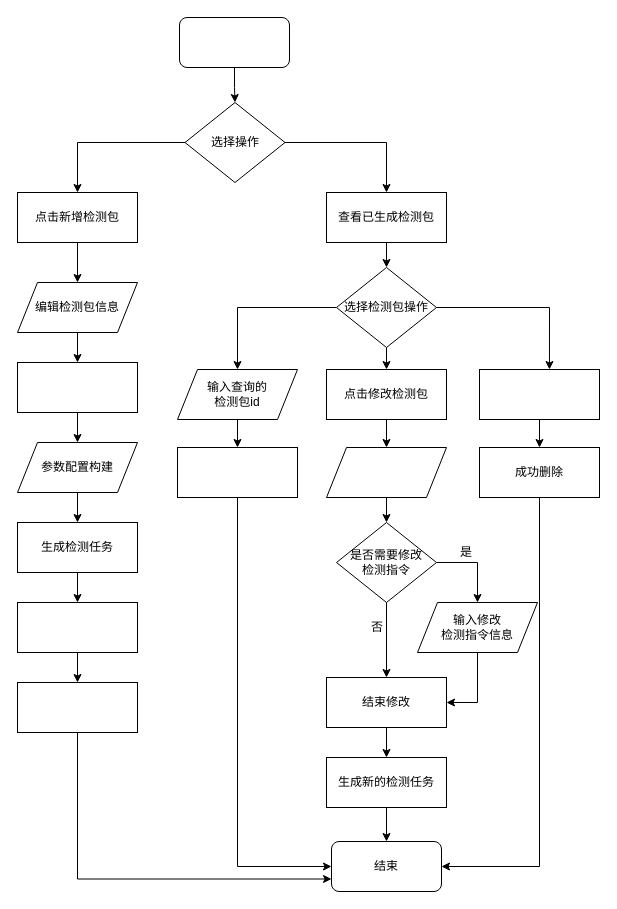
This 617x909 diagram has some shape labels left out. The centre of each missing label's shape, as x and y in pixels:
对目标网络进行漏洞检测: the point at 77,627
将结果返回给数据库: the point at 77,707
开始: the point at 234,42
点击删除检测包: the point at 539,394
点击新增检测指令: the point at 77,387
输入修改 检测包信息: the point at 386,472
返回查询的结果: the point at 237,472
